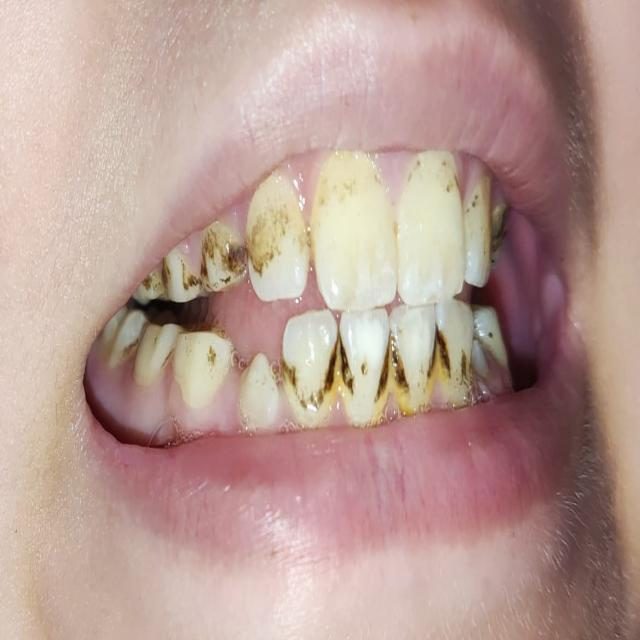tooth: (309, 176, 396, 301), (400, 171, 462, 293), (249, 184, 307, 295), (290, 330, 341, 416), (392, 305, 435, 404), (346, 306, 388, 407), (438, 301, 472, 404), (177, 332, 222, 408), (242, 359, 278, 420), (465, 188, 488, 280), (482, 305, 509, 382), (199, 242, 244, 278), (141, 327, 172, 379), (162, 255, 200, 297)
